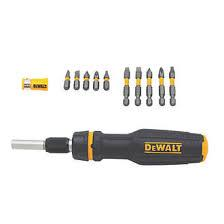screwdriver: (9, 126, 207, 164), (167, 66, 176, 105), (134, 66, 141, 106), (145, 66, 152, 105), (158, 67, 165, 105), (123, 66, 129, 106), (63, 69, 70, 90), (83, 70, 89, 90), (92, 70, 98, 89), (74, 69, 79, 91), (103, 69, 108, 89)
